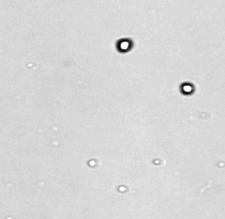Living Cell: (116, 38, 134, 53), (180, 81, 195, 95)
